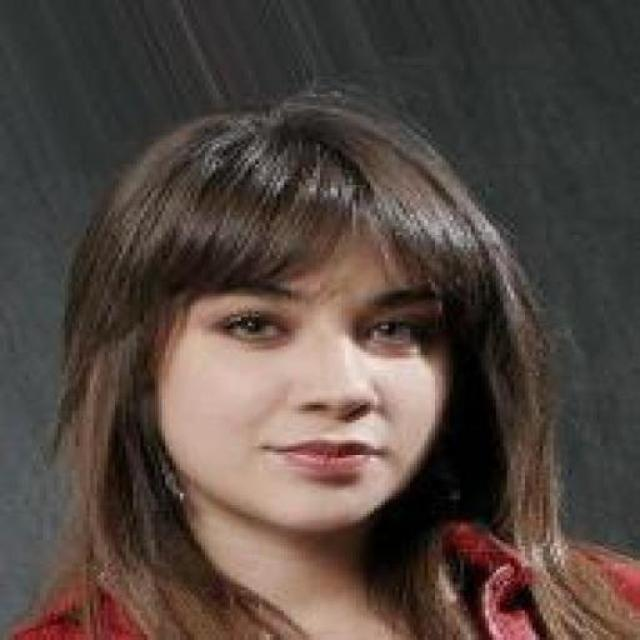bareface: (123, 163, 452, 527)
